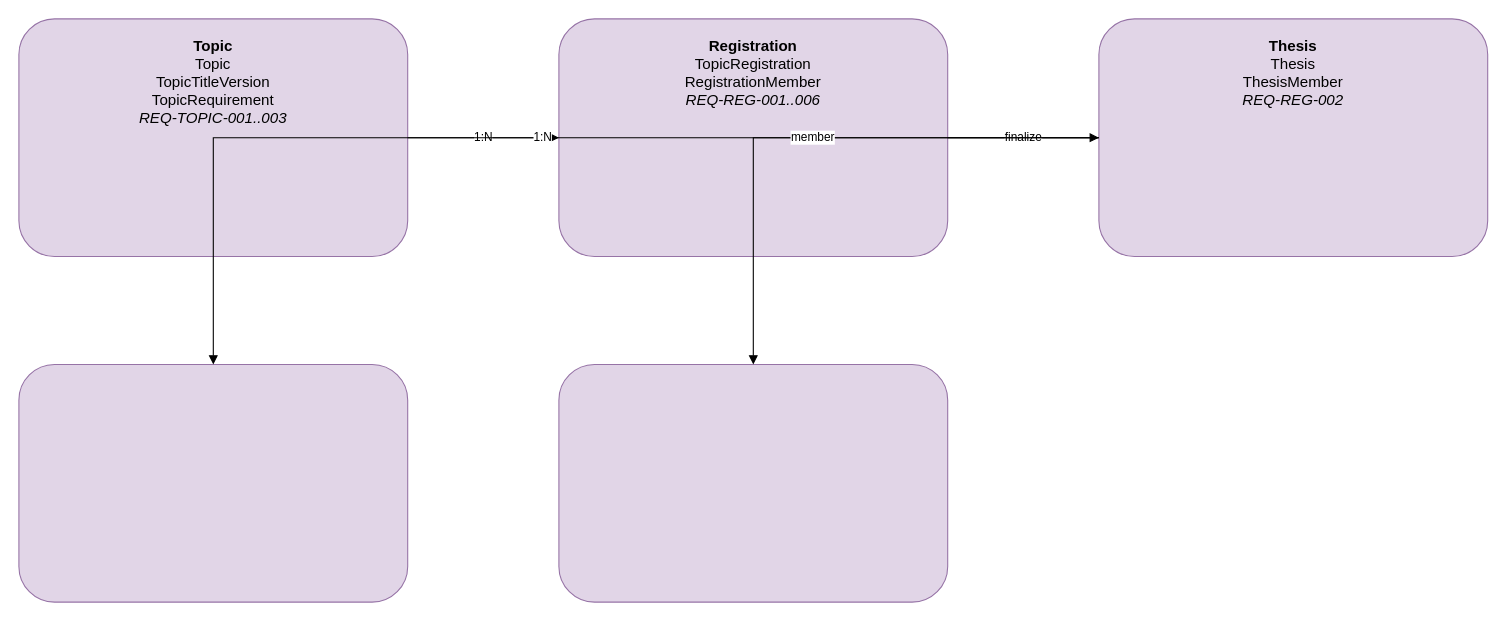
Image size: 1507x621. Some labels were removed from this diagram. The box of each missing label's shape, as (x1, y1, x2, y2) in pixels:
Assignments AdvisorAssignment ReviewerAssignment REQ-REG-003: (18, 363, 408, 602)
Work MemberWorkAssignment REQ-REG-004: (558, 363, 948, 602)
